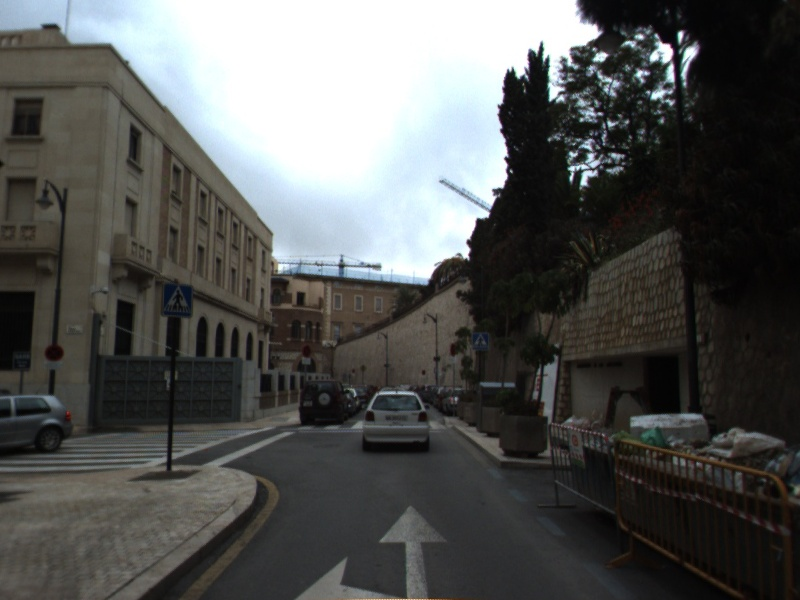STRAIGHT_LEFT: (292, 503, 450, 600)
